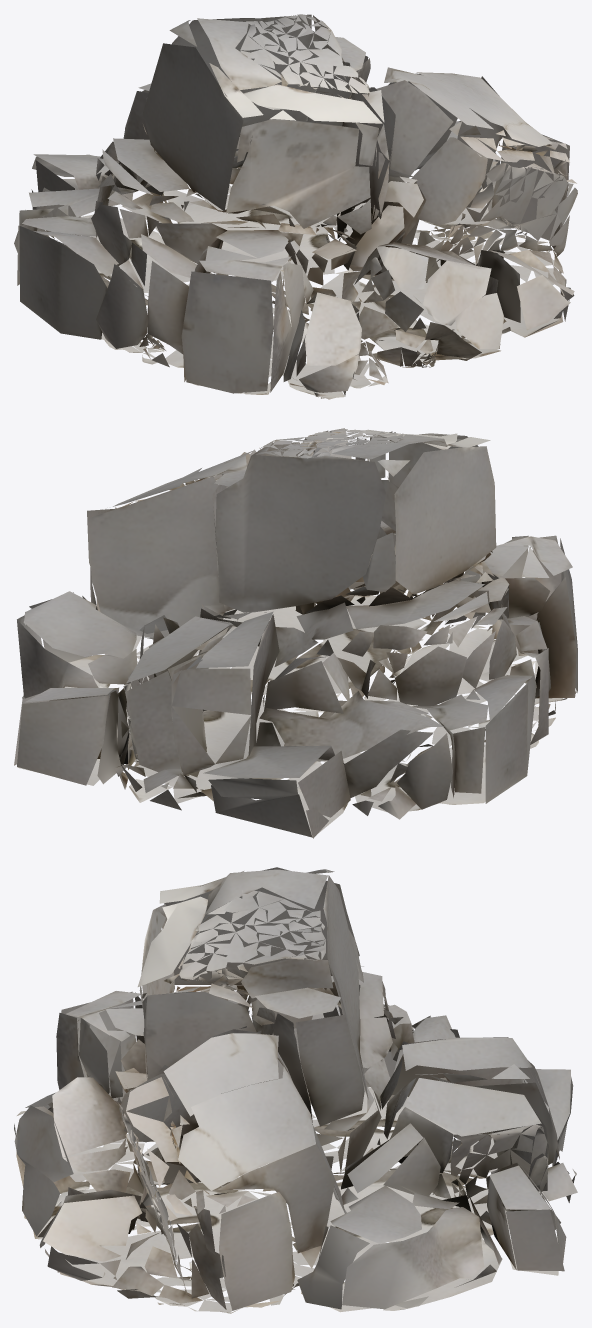
The model's file is rubble.glb.
The picture shows the model from 3 angles, top to bottom: view 1: azimuth 30°, elevation 25°; view 2: azimuth 150°, elevation 25°; view 3: azimuth 270°, elevation 25°; orthographic projection. The views are drawn at different scales.
Visible parts, largest first — view 1: node_0; view 2: node_0; view 3: node_0.
Boxes of the visible parts, left/top/right/bottom form: node_0: left=14, top=14, right=577, bottom=399; node_0: left=14, top=428, right=577, bottom=838; node_0: left=14, top=867, right=577, bottom=1313.
Size of the model in its own units: 0.4953 by 0.2821 by 0.4967.
Materials: 1 (1 with a texture image).
